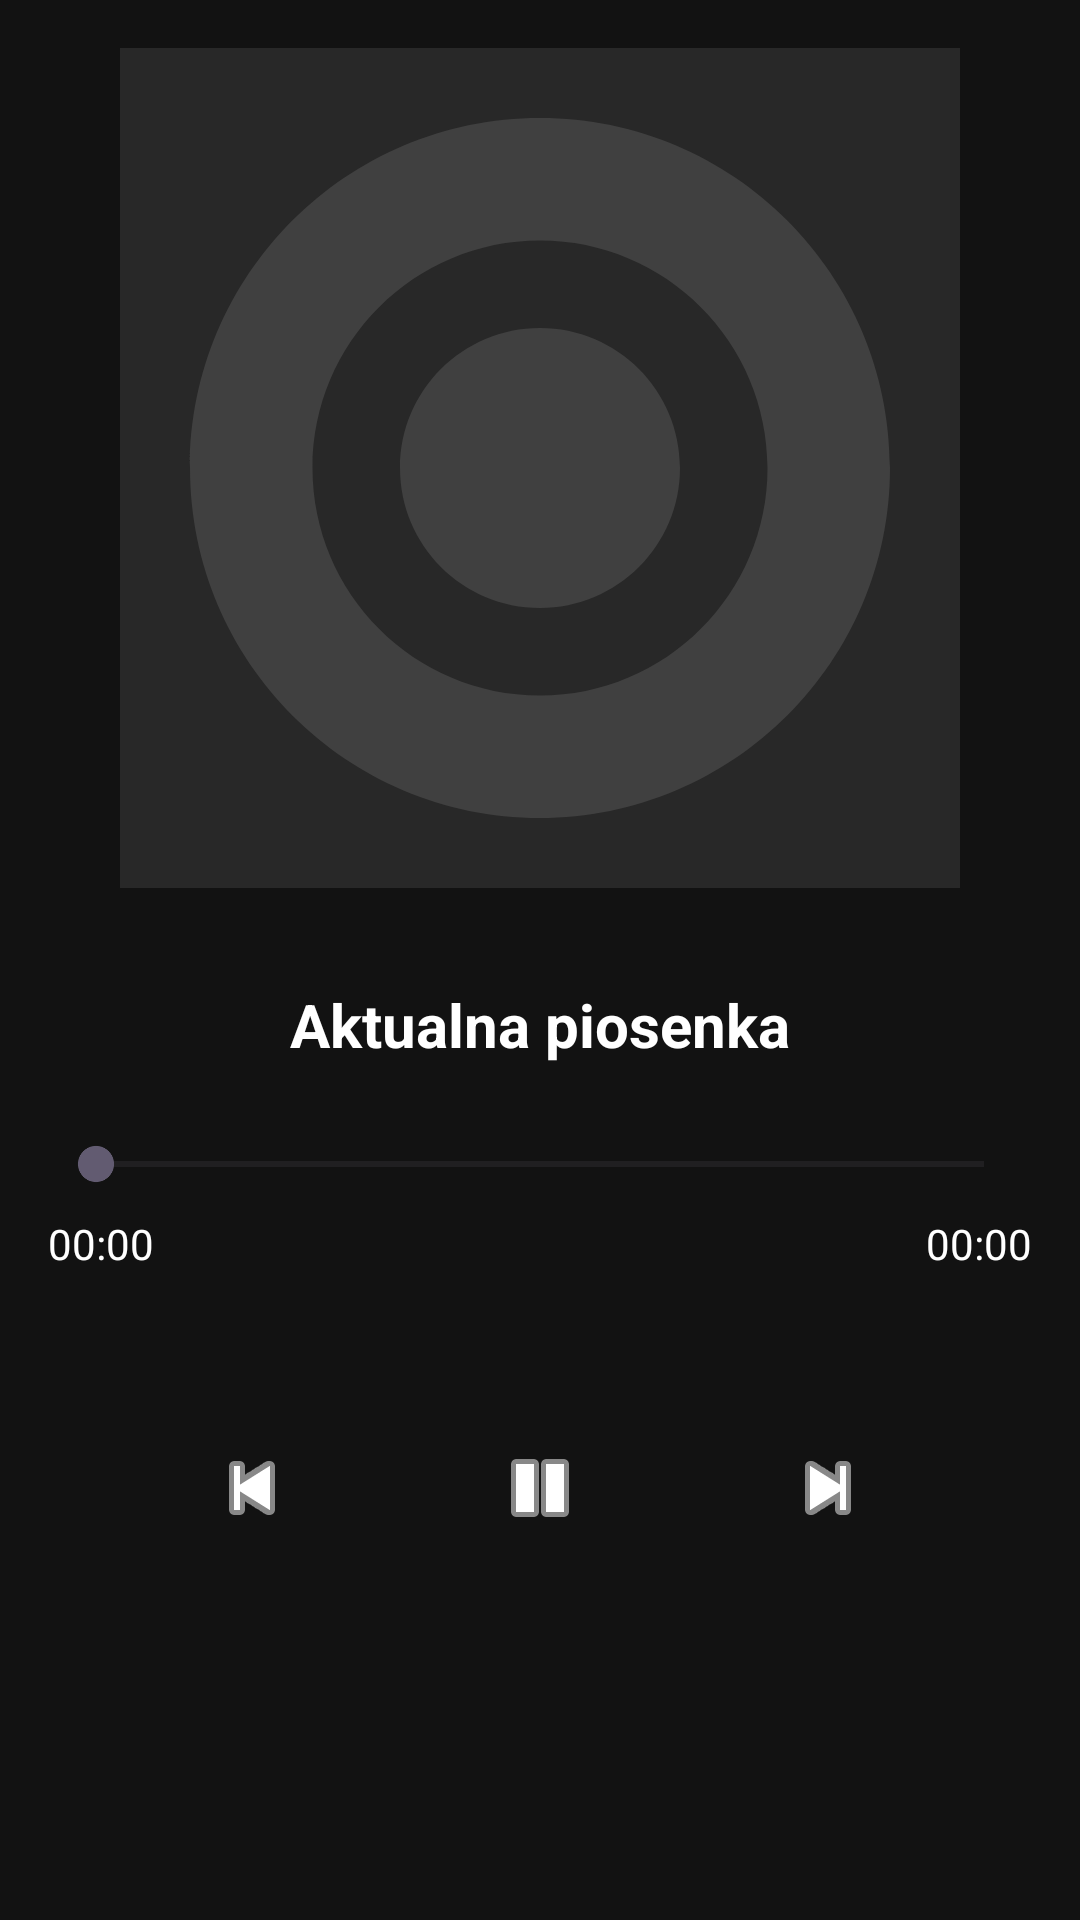

Named icons in this screenshot (1080x1920) and their bounding boxes, (x1, y1, x2, y2):
next: (805, 1461, 851, 1515)
pause: (511, 1459, 569, 1517)
previous: (229, 1461, 275, 1515)
